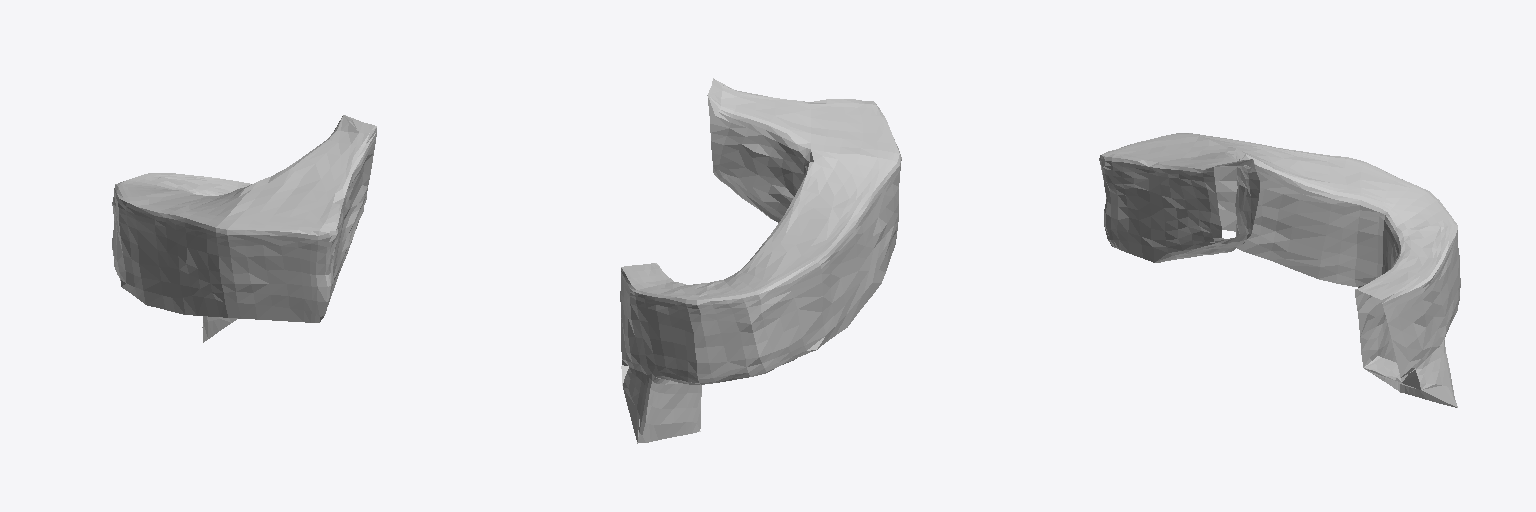
Rendered from Env5_UVlow.obj.
3 views of the same model, side by side, from view 1: azimuth 30°, elevation 25°; view 2: azimuth 150°, elevation 25°; view 3: azimuth 270°, elevation 25° (orthographic).
Parts seen in each view (by area): view 1: Env5_UVlow:ZBrush_defualt_group1; view 2: Env5_UVlow:ZBrush_defualt_group1; view 3: Env5_UVlow:ZBrush_defualt_group1.
Boxes of the visible parts, x1=… form: Env5_UVlow:ZBrush_defualt_group1: x1=112, y1=115, x2=376, y2=342; Env5_UVlow:ZBrush_defualt_group1: x1=620, y1=78, x2=901, y2=443; Env5_UVlow:ZBrush_defualt_group1: x1=1099, y1=133, x2=1460, y2=407.
Bounding box in the file's own units: 57.21 × 75.53 × 92.96.